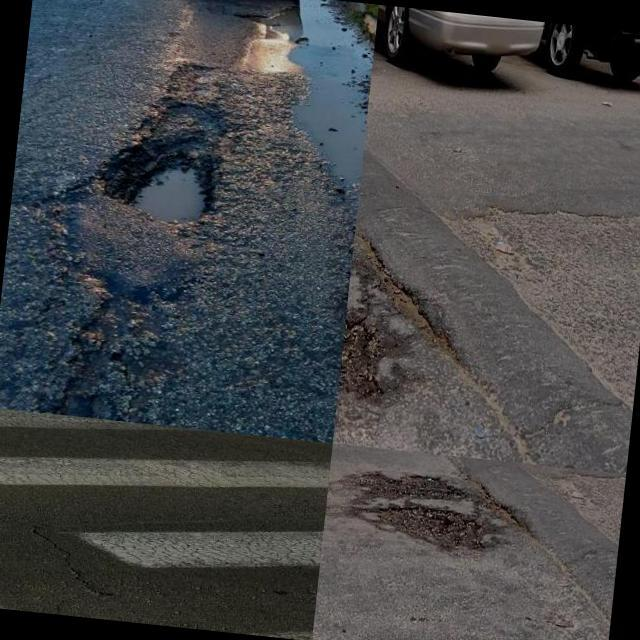Pothole: (356, 468, 477, 553), (102, 138, 219, 222), (234, 0, 356, 48), (337, 311, 385, 402)
